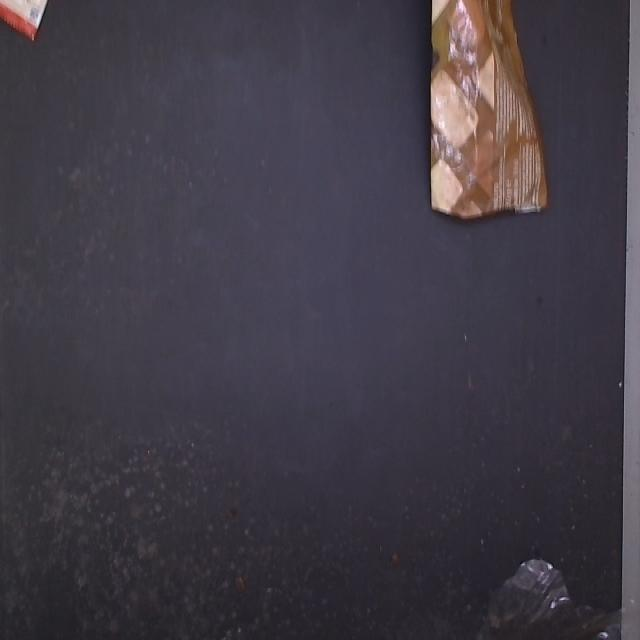food_wrapping: (423, 0, 555, 231), (0, 0, 50, 59)
plastic_films: (476, 535, 639, 640)
